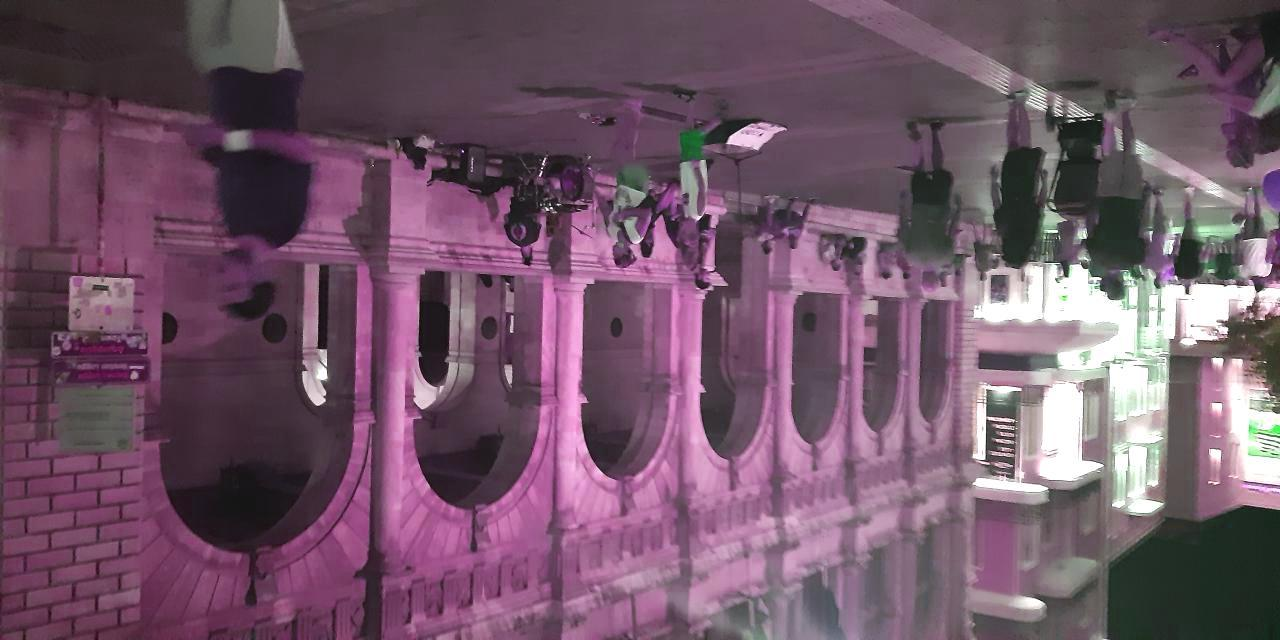Loggia: (1, 80, 988, 640)
